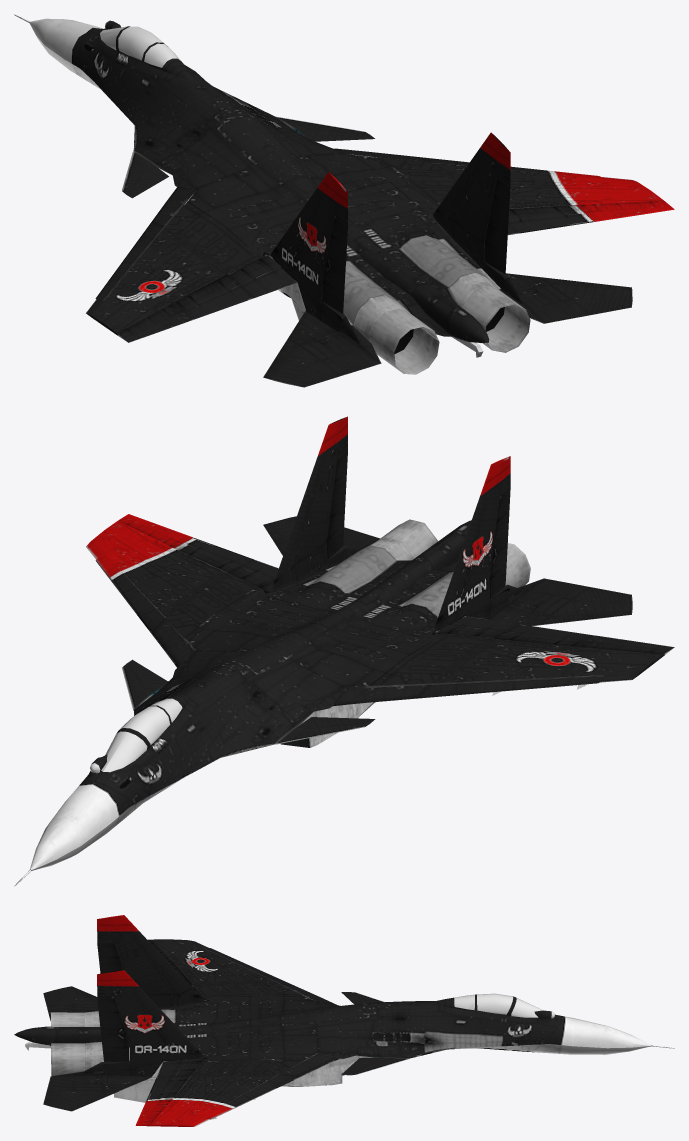
Rendered from nova_su33.glb.
3 views of the same model, one above another, from view 1: azimuth 30°, elevation 25°; view 2: azimuth 150°, elevation 25°; view 3: azimuth 270°, elevation 25° (orthographic). The views are drawn at different scales.
Visible parts, largest first — view 1: su_33_2.001, su_33_2.015; view 2: su_33_2.001, su_33_2.015, su_33_2.014; view 3: su_33_2.001, su_33_2.015, su_33_2.014.
Part boxes in pixels (x1,y1,x2,y2): su_33_2.001: (14, 14, 674, 387); su_33_2.015: (118, 26, 180, 67); su_33_2.001: (14, 416, 674, 886); su_33_2.015: (119, 698, 182, 744); su_33_2.014: (90, 731, 147, 773); su_33_2.001: (14, 915, 674, 1126); su_33_2.015: (454, 993, 513, 1014); su_33_2.014: (511, 997, 554, 1018).
Bounding box in the file's own units: 14.5 × 4.84 × 21.84.
5 materials, 1 textured.
